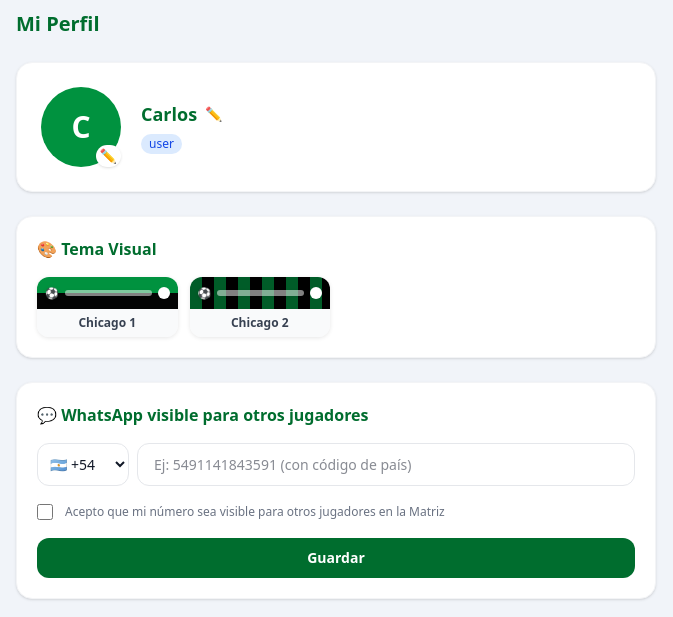
Test case: Profile — editar nombre › click en ✏️ → muestra input con el nombre actual
The image size is (673, 617).
El botón de editar nombre es el ✏️ junto al h2
Click the button "✏️": (214, 114) top-left (205, 104), bottom-right (223, 124)
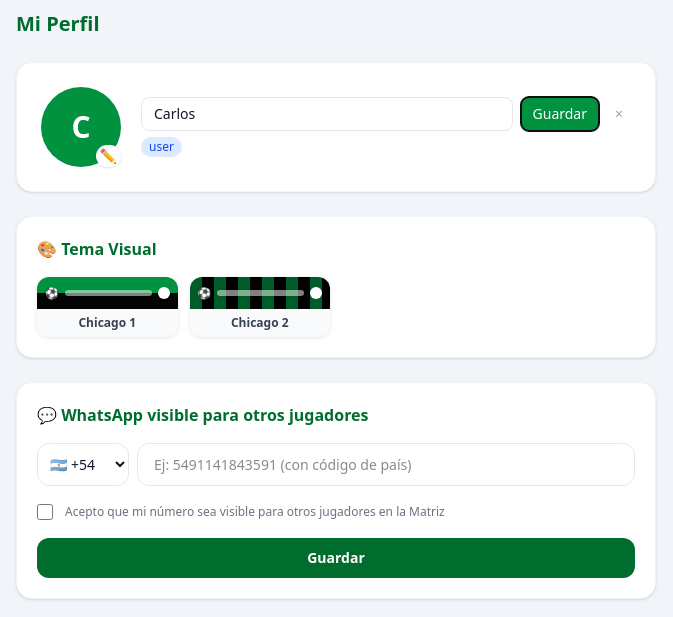
Now the field showing "Carlos" is shown, box top-left (141, 97), bottom-right (512, 131)
